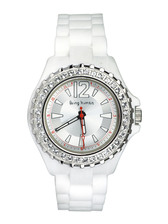watch: (26, 9, 145, 212)
